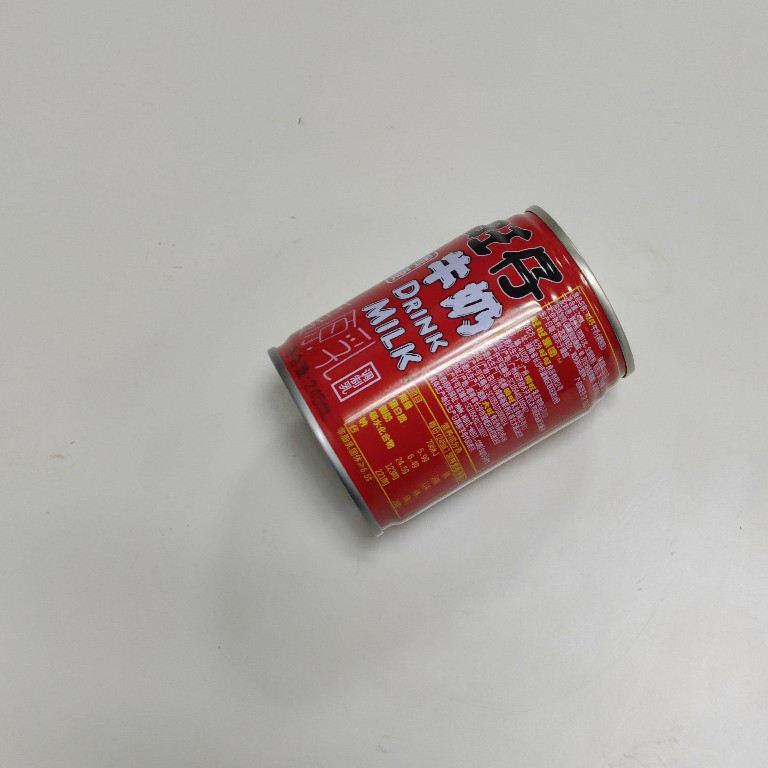can: (260, 201, 640, 543)
